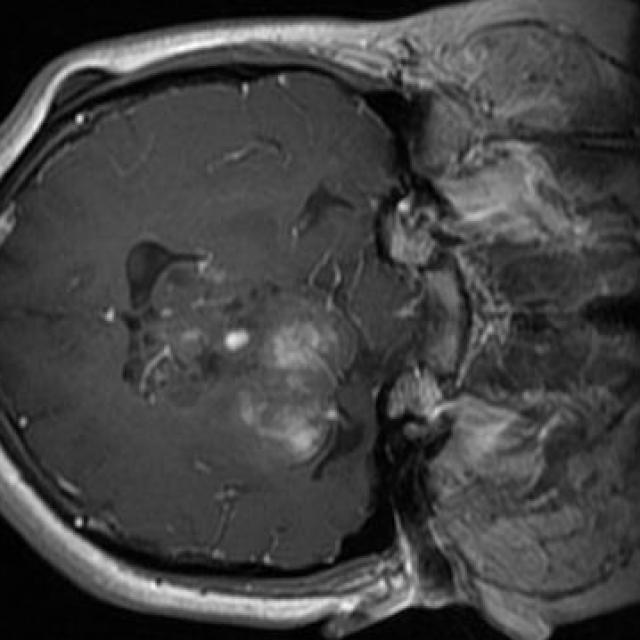glioma: (121, 241, 365, 483)
